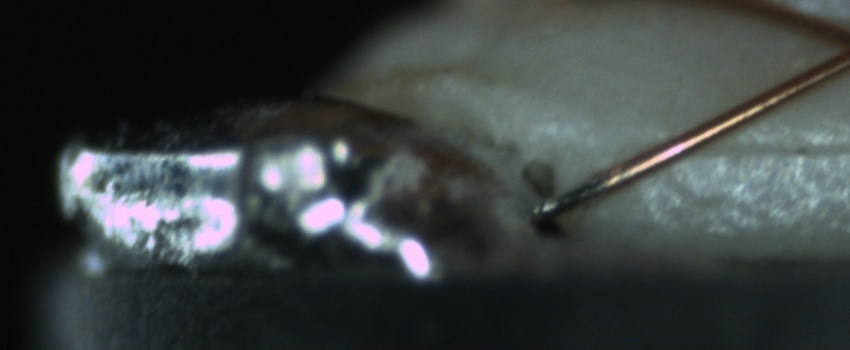CL: (808, 11, 850, 80)
DL: (700, 117, 848, 183)
TS: (538, 173, 609, 218)
